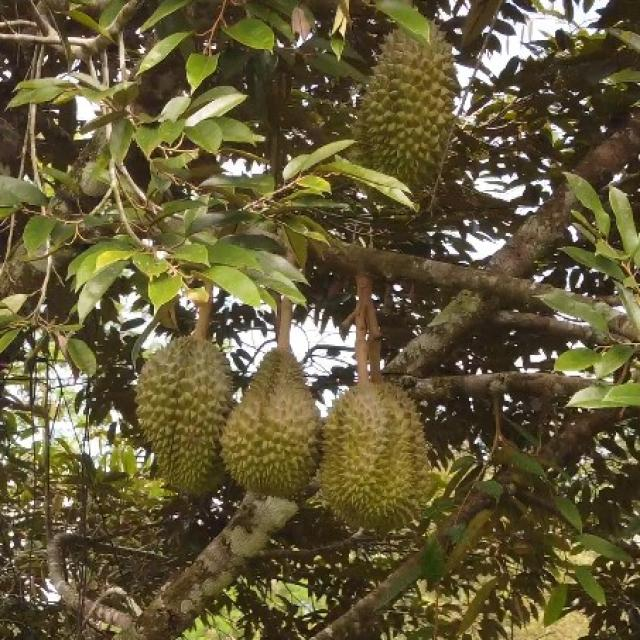immature: (341, 18, 464, 196), (321, 376, 433, 534), (219, 342, 328, 502), (133, 330, 233, 502)
